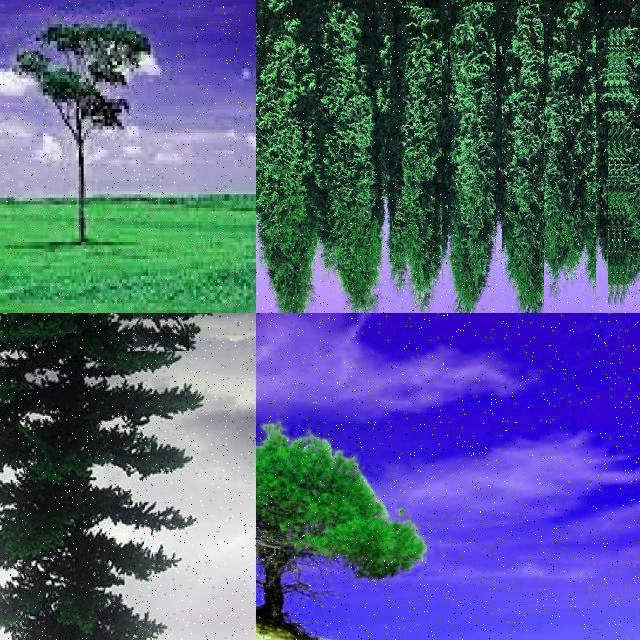tree: (0, 312, 229, 639), (9, 1, 160, 247), (256, 416, 419, 634), (276, 31, 364, 312), (318, 5, 386, 313), (502, 6, 558, 314), (588, 0, 640, 312), (260, 7, 312, 314), (390, 8, 442, 312), (544, 18, 596, 314), (448, 2, 496, 314), (608, 0, 640, 312), (614, 0, 640, 312), (616, 0, 640, 312), (620, 0, 640, 312), (133, 313, 189, 351), (212, 313, 255, 361)
